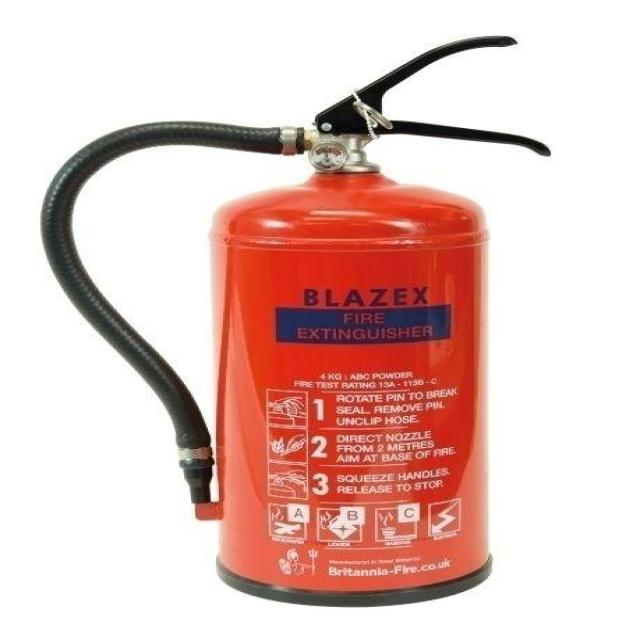fire_extinguisher: (34, 32, 554, 610)
